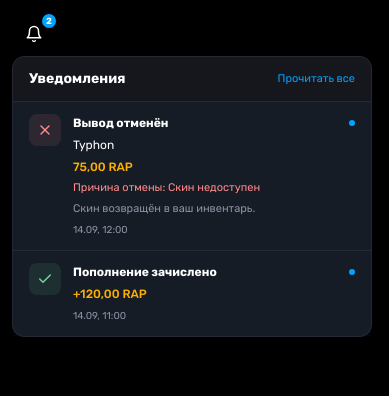
Test: a failed refresh preserves history and a failed read preserves unread state
Later steps or results of the test are not shown.
Step 1. Click the button "2" → (34, 34), box 12,12 -> 56,56
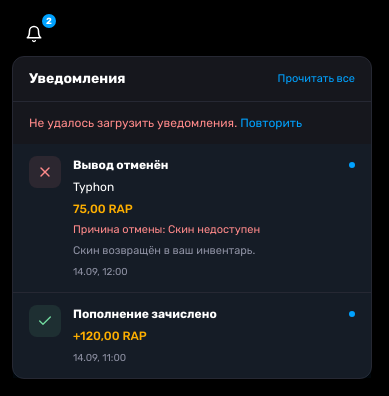
Expected: the number of list items with test id "notification-item" is 2, 13,144 -> 371,292; 13,292 -> 371,378
Expected: the text "Не удалось загрузить уведомления" is shown, 29,116 -> 237,130
